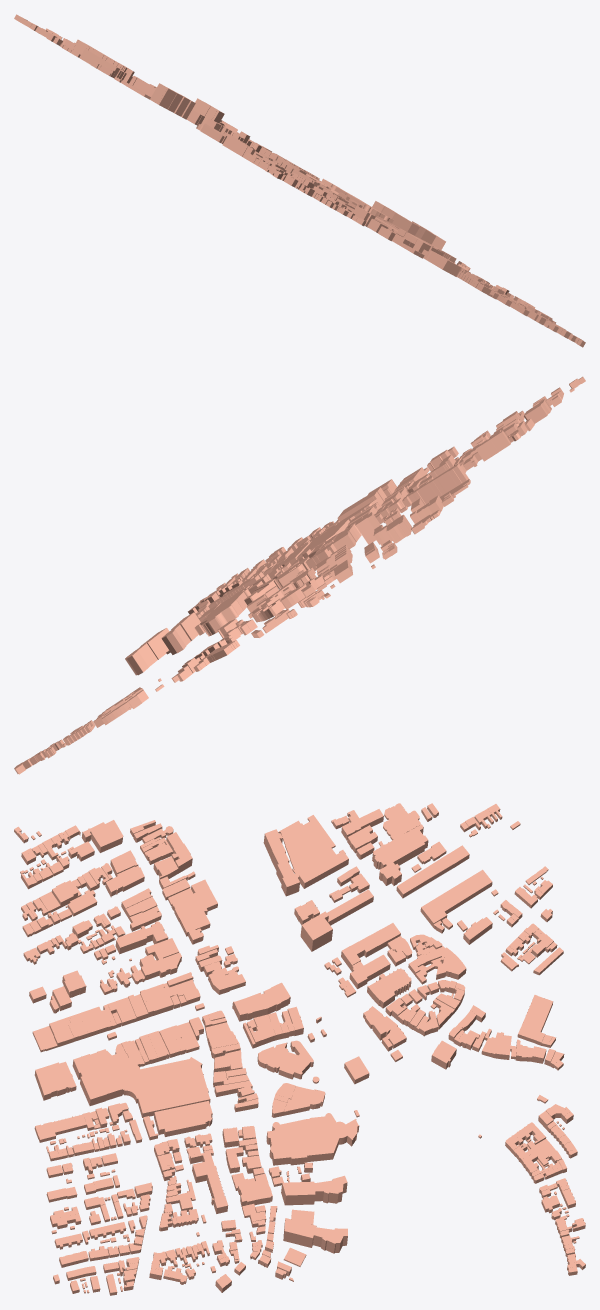
3 views of the same model, one above another, from view 1: azimuth 30°, elevation 25°; view 2: azimuth 150°, elevation 25°; view 3: azimuth 270°, elevation 25° (orthographic). The views are drawn at different scales.
Size of the model in its own units: 528 by 381 by 652.
